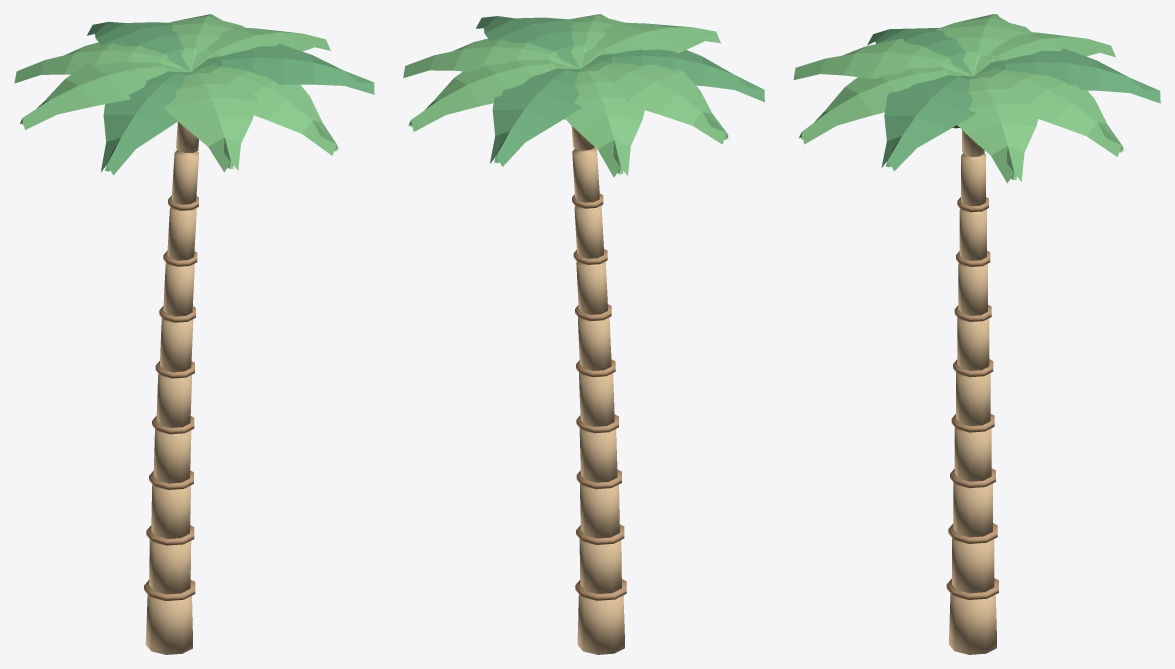
File: palm.glb
The picture shows the model from 3 angles, left to right: view 1: azimuth 30°, elevation 25°; view 2: azimuth 150°, elevation 25°; view 3: azimuth 270°, elevation 25°; orthographic projection.
Parts seen in each view (by area): view 1: palm__Palm_Frond, palm__Palm_Trunk, palm__Palm_Frond_Dark, palm__Palm_Trunk_Rings; view 2: palm__Palm_Frond, palm__Palm_Trunk, palm__Palm_Frond_Dark, palm__Palm_Trunk_Rings; view 3: palm__Palm_Frond, palm__Palm_Trunk, palm__Palm_Frond_Dark, palm__Palm_Trunk_Rings.
Part boxes in pixels (left/top/right/bottom): palm__Palm_Frond: left=14, top=14, right=337, bottom=172; palm__Palm_Trunk: left=145, top=121, right=198, bottom=654; palm__Palm_Frond_Dark: left=87, top=21, right=374, bottom=175; palm__Palm_Trunk_Rings: left=144, top=195, right=198, bottom=600; palm__Palm_Frond: left=403, top=14, right=729, bottom=177; palm__Palm_Trunk: left=571, top=126, right=624, bottom=654; palm__Palm_Frond_Dark: left=476, top=16, right=764, bottom=166; palm__Palm_Trunk_Rings: left=572, top=193, right=626, bottom=600; palm__Palm_Frond: left=793, top=14, right=1125, bottom=183; palm__Palm_Trunk: left=949, top=130, right=996, bottom=654; palm__Palm_Frond_Dark: left=867, top=28, right=1160, bottom=170; palm__Palm_Trunk_Rings: left=946, top=197, right=998, bottom=599.
Bounding box in the file's own units: 5.05 × 8.93 × 5.02.
